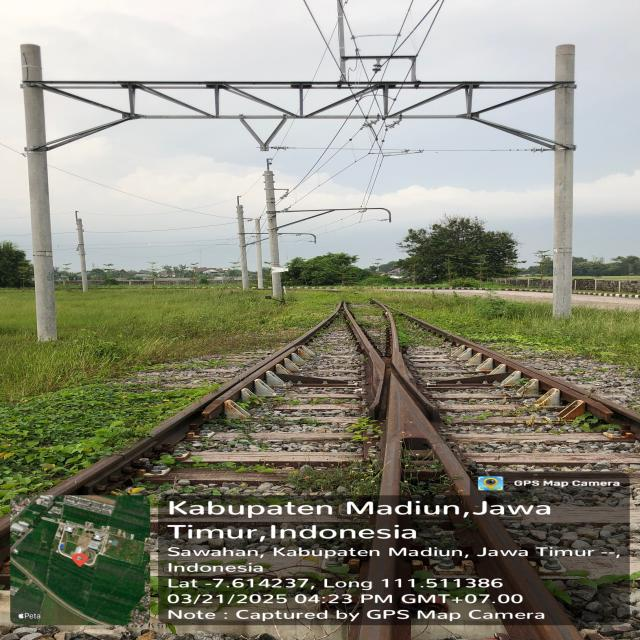rail-detection: (46, 301, 580, 640), (400, 312, 640, 429), (356, 600, 404, 640), (369, 540, 400, 599)
